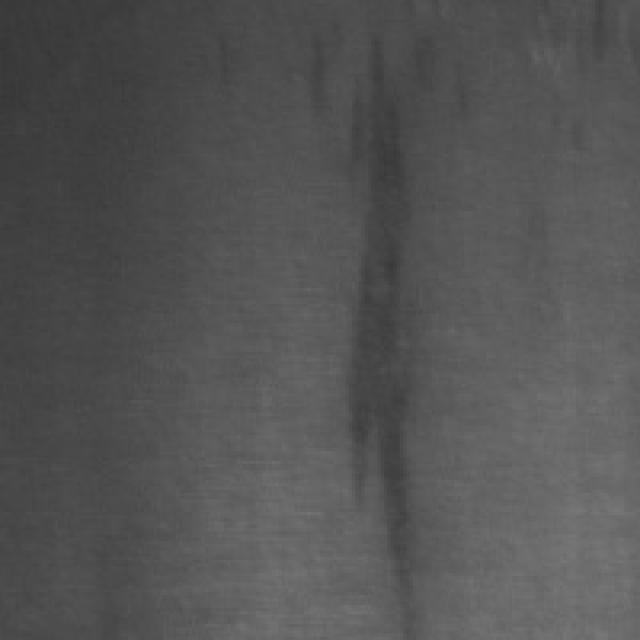inclusion: (323, 13, 448, 624)
